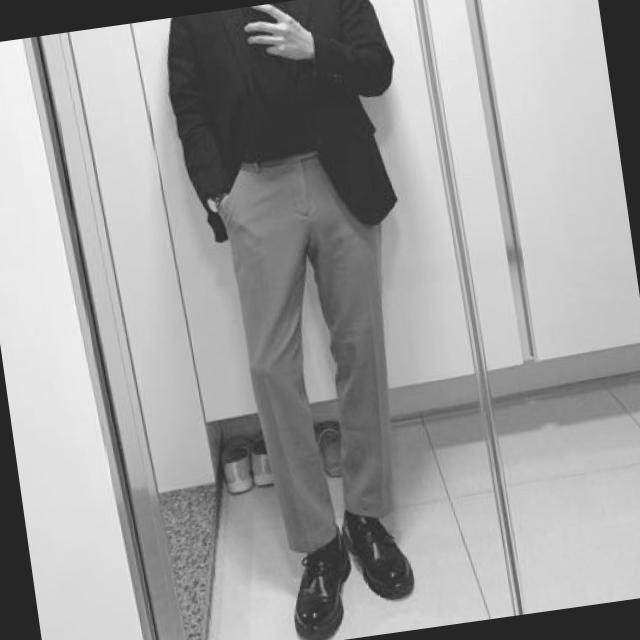blazer: (213, 142, 430, 558), (159, 0, 417, 248)
